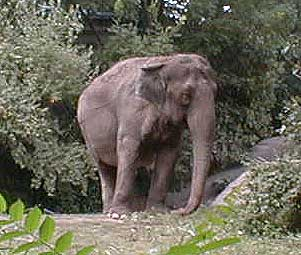elephant: (65, 50, 226, 217)
